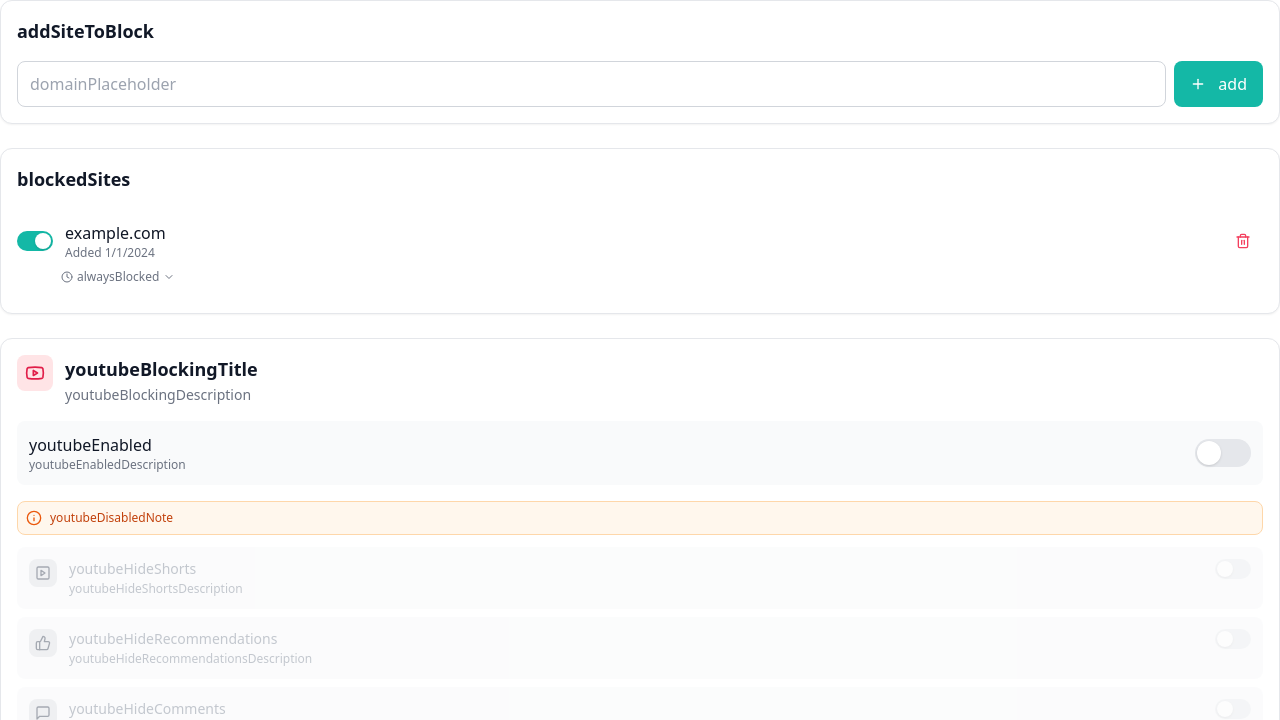
Test case: BlocklistTab › パスワード保護なしの解除 › 有効なトグルを切るときは確認モーダルが開くだけで、まだ切らない
The image size is (1280, 720).
Step 1. Click the switch with test id "blocklist-item-toggle" → (35, 241), box [17,231,53,251]
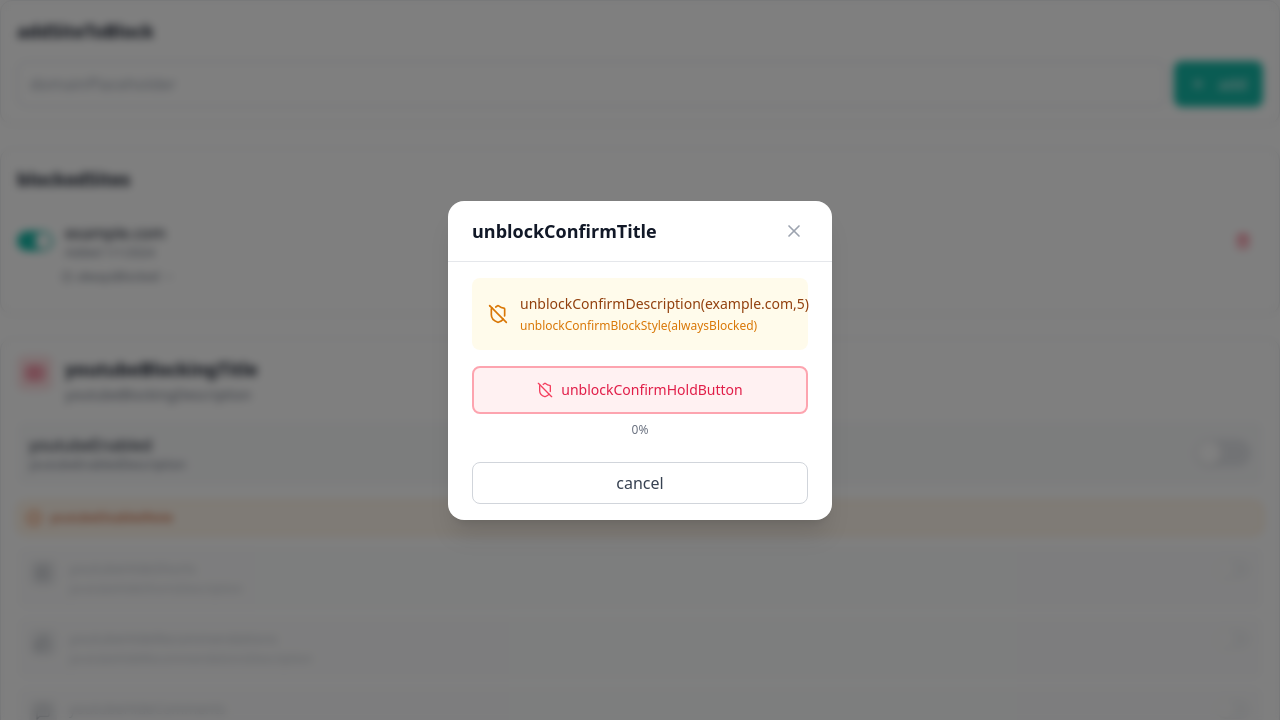
Expected: the button with test id "unblock-confirm-hold-button" is shown, [472,366,808,414]
Expected: the text "unblockConfirmDescription(example.com,5)" is shown, [520,294,809,314]
